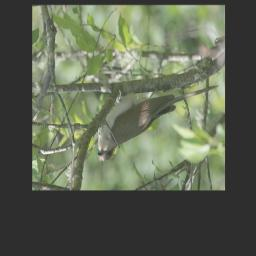Cuckoo: (97, 82, 220, 163)
